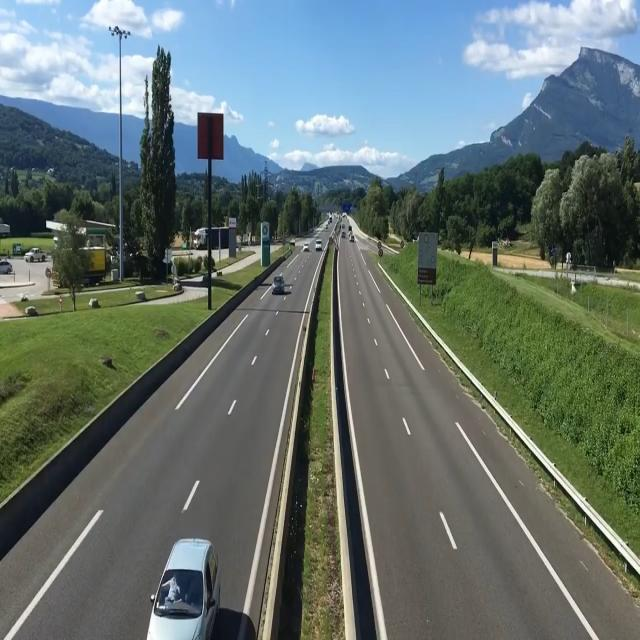car: (146, 533, 226, 640), (269, 269, 293, 298)
